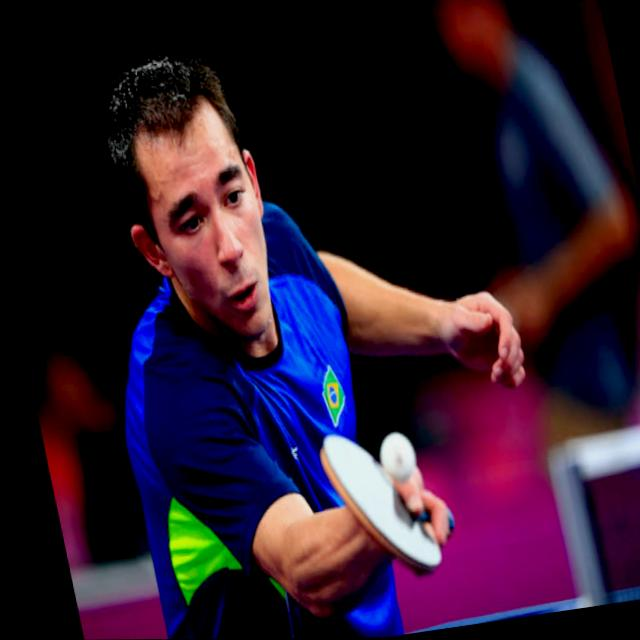TT Racket: (297, 409, 455, 598)
